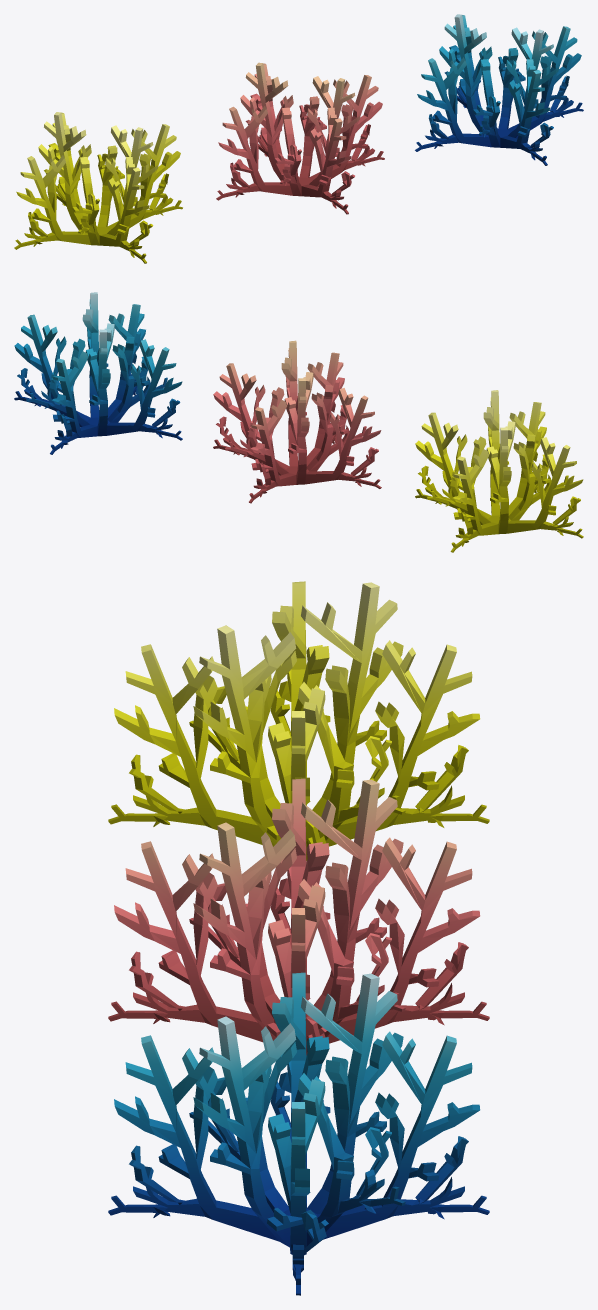
The model's file is New_Coral.fbx.
3 views of the same model, one above another, from view 1: azimuth 30°, elevation 25°; view 2: azimuth 150°, elevation 25°; view 3: azimuth 270°, elevation 25° (orthographic). The views are drawn at different scales.
Visible parts, largest first — view 1: Coral_red1, Coral_yellow1, Coral_blue1; view 2: Coral_yellow1, Coral_blue1, Coral_red1; view 3: Coral_blue1, Coral_yellow1, Coral_red1.
Part boxes in pixels (x1,y1,x2,y2): Coral_red1: (216, 62, 384, 214); Coral_yellow1: (14, 112, 182, 263); Coral_blue1: (415, 14, 583, 165); Coral_yellow1: (415, 390, 583, 552); Coral_blue1: (14, 292, 182, 454); Coral_red1: (213, 340, 381, 503); Coral_blue1: (108, 972, 489, 1295); Coral_yellow1: (108, 581, 489, 860); Coral_red1: (108, 778, 489, 1055).
Bounding box in the file's own units: 45.75 × 9.24 × 13.28.
3 materials, 3 textured.
